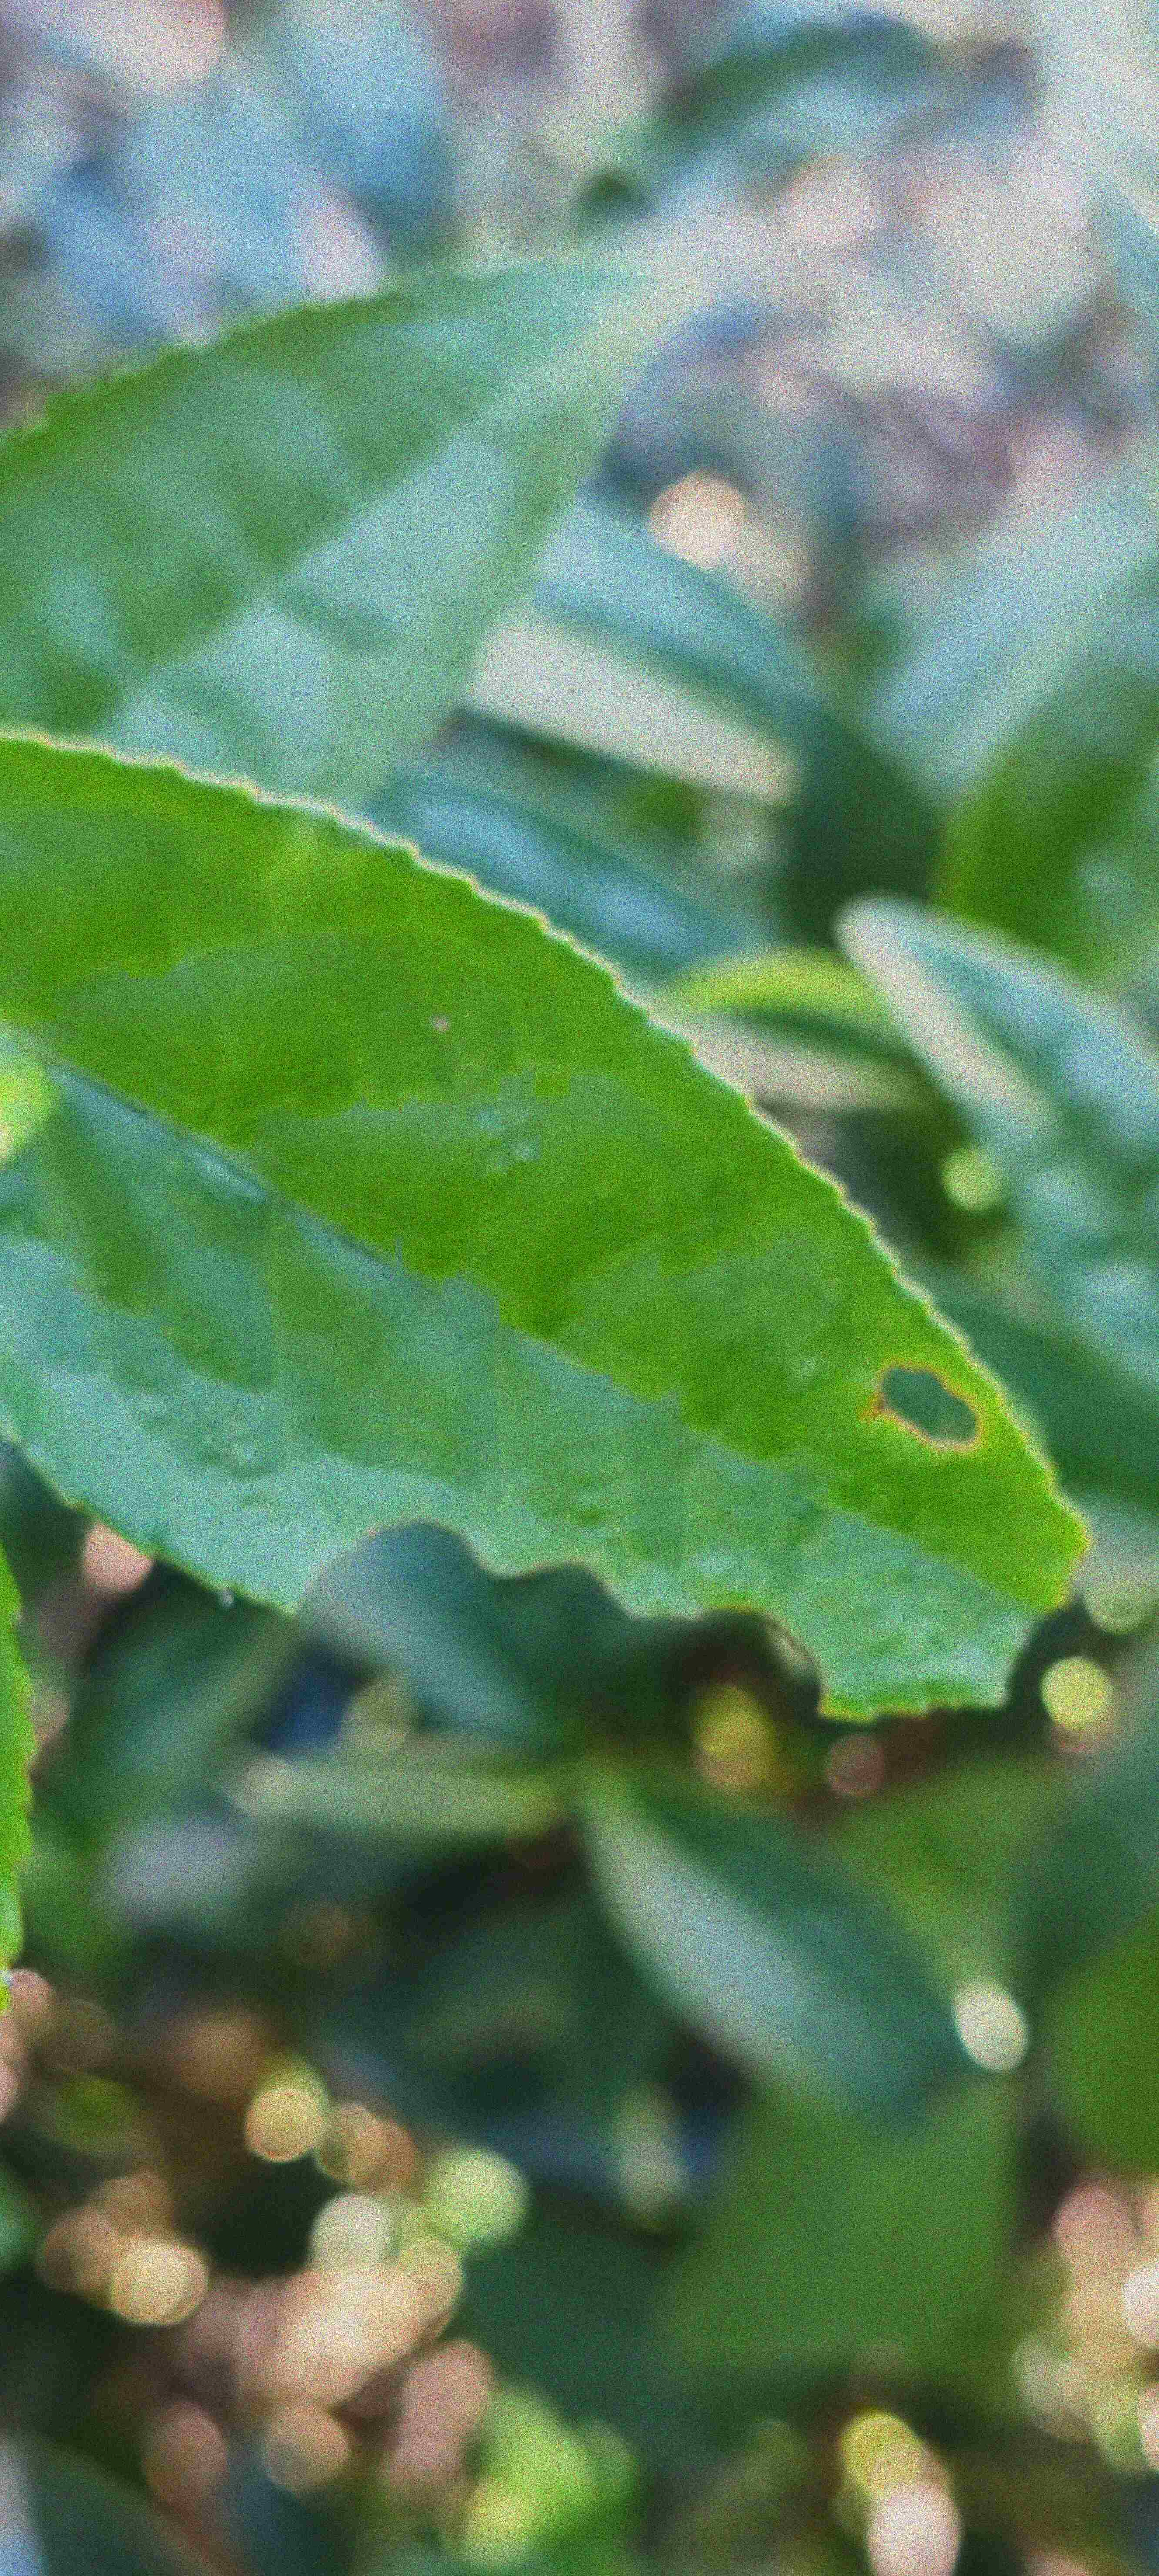chihuo_high: (0, 716, 1102, 1728)
healthy: (8, 258, 678, 810)
